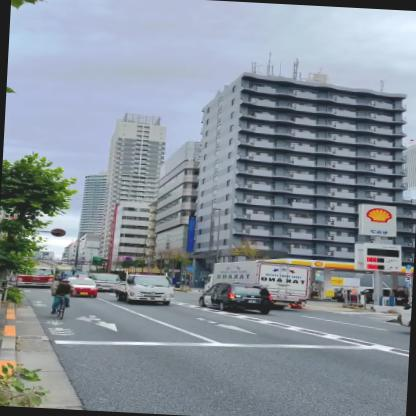car: (197, 282, 275, 314), (64, 276, 98, 297)
motorcycle: (48, 277, 74, 320)
truck: (200, 257, 310, 309), (112, 273, 174, 305)
